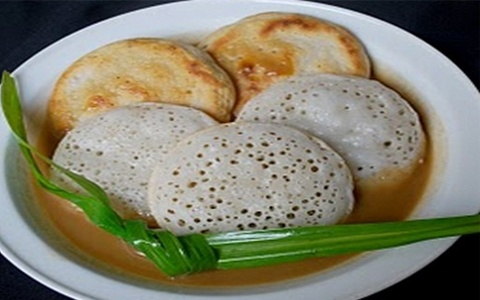srabi: (121, 94, 363, 255)
